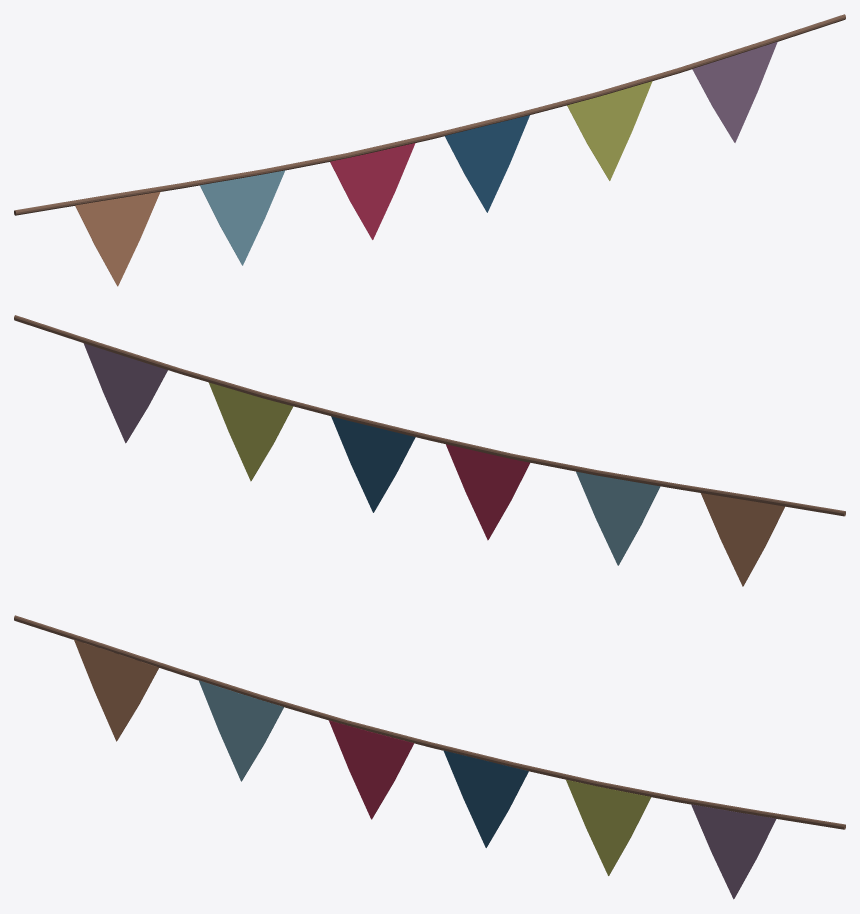
Rendered from Fanion.fbx.
3 views of the same model, one above another, from view 1: azimuth 30°, elevation 25°; view 2: azimuth 150°, elevation 25°; view 3: azimuth 330°, elevation 25° (orthographic).
Visible parts, largest first — view 1: pPlane7; view 2: pPlane7; view 3: pPlane7.
Boxes of the visible parts, x1,y1,x2,y2 form: pPlane7: [14, 14, 845, 286]; pPlane7: [14, 315, 845, 586]; pPlane7: [14, 615, 845, 899].
Bounding box in the file's own units: 419 × 56.6 × 1.79.
